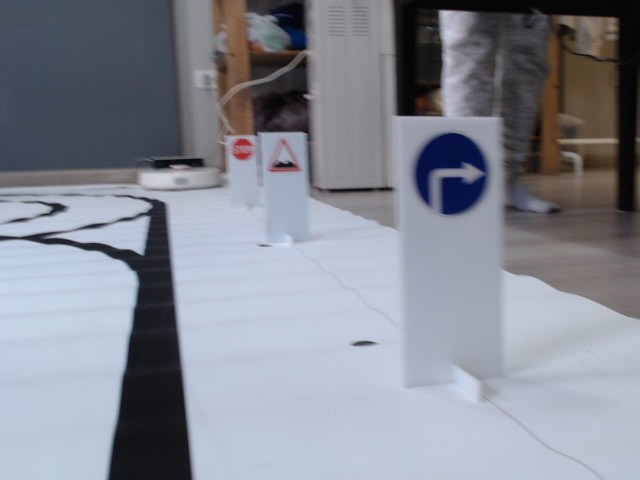Nerov: (264, 138, 305, 176)
Right: (415, 134, 489, 215)
Stop: (231, 138, 254, 159)
